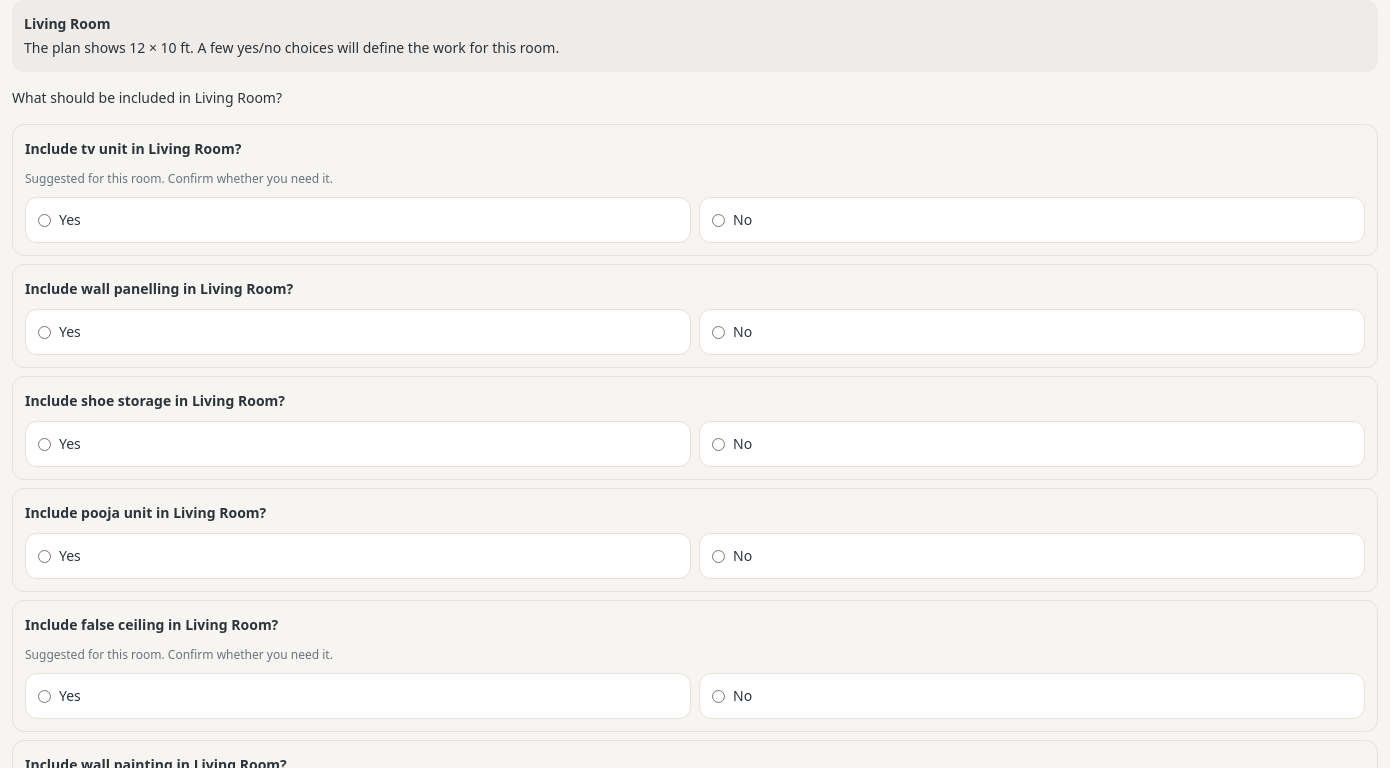
Test: requires an explicit TV cabinet answer and only includes confirmed living-room features
The width and height of the screenshot is (1390, 768).
Check: the radio button labelled "Yes" below "Include tv unit in Living Room?" is not checked, box x1=38 y1=214 x2=51 y2=226
Click the 1st radio button labelled "No" at (718, 220), box x1=712 y1=214 x2=725 y2=226
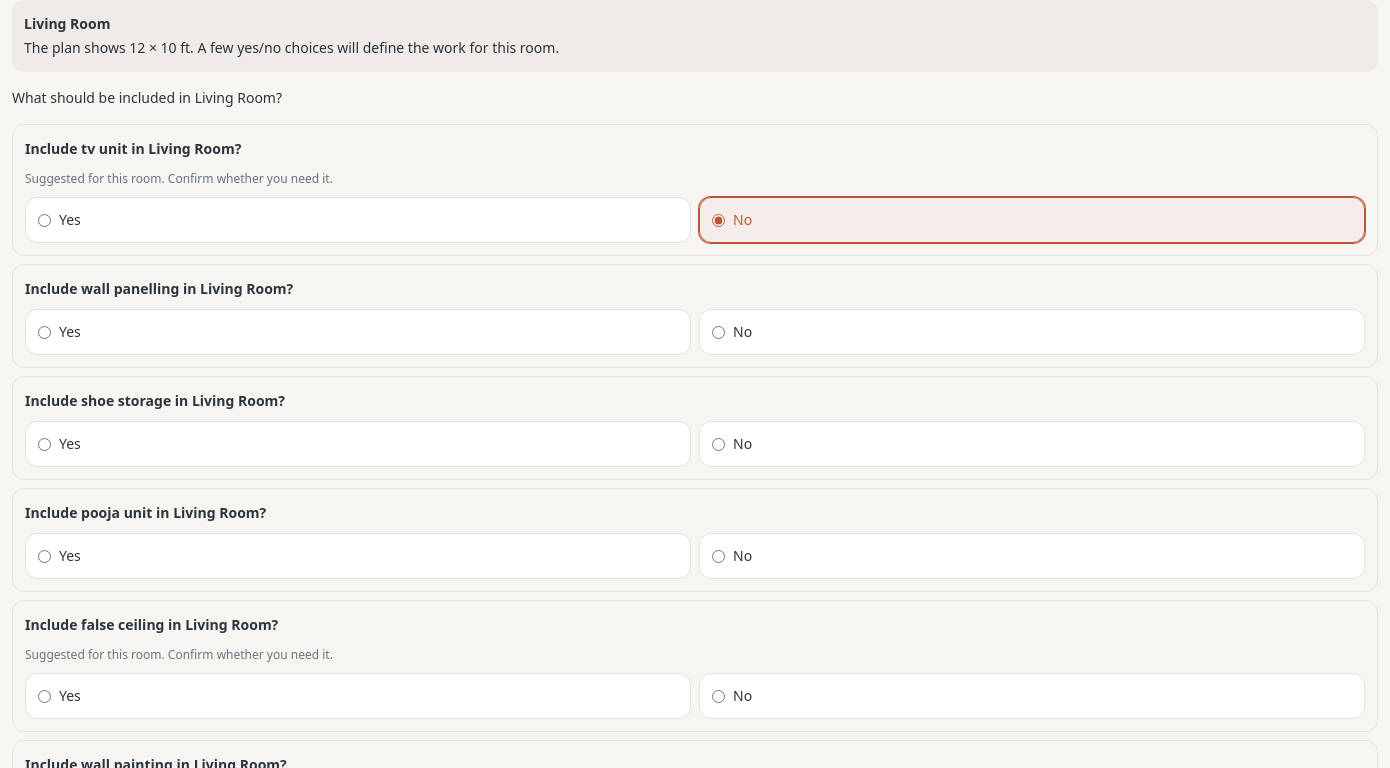
Click the radio button labelled "Yes" below "Include tv unit in Living Room?" at (44, 220), box x1=38 y1=214 x2=51 y2=226
(page scrolled)
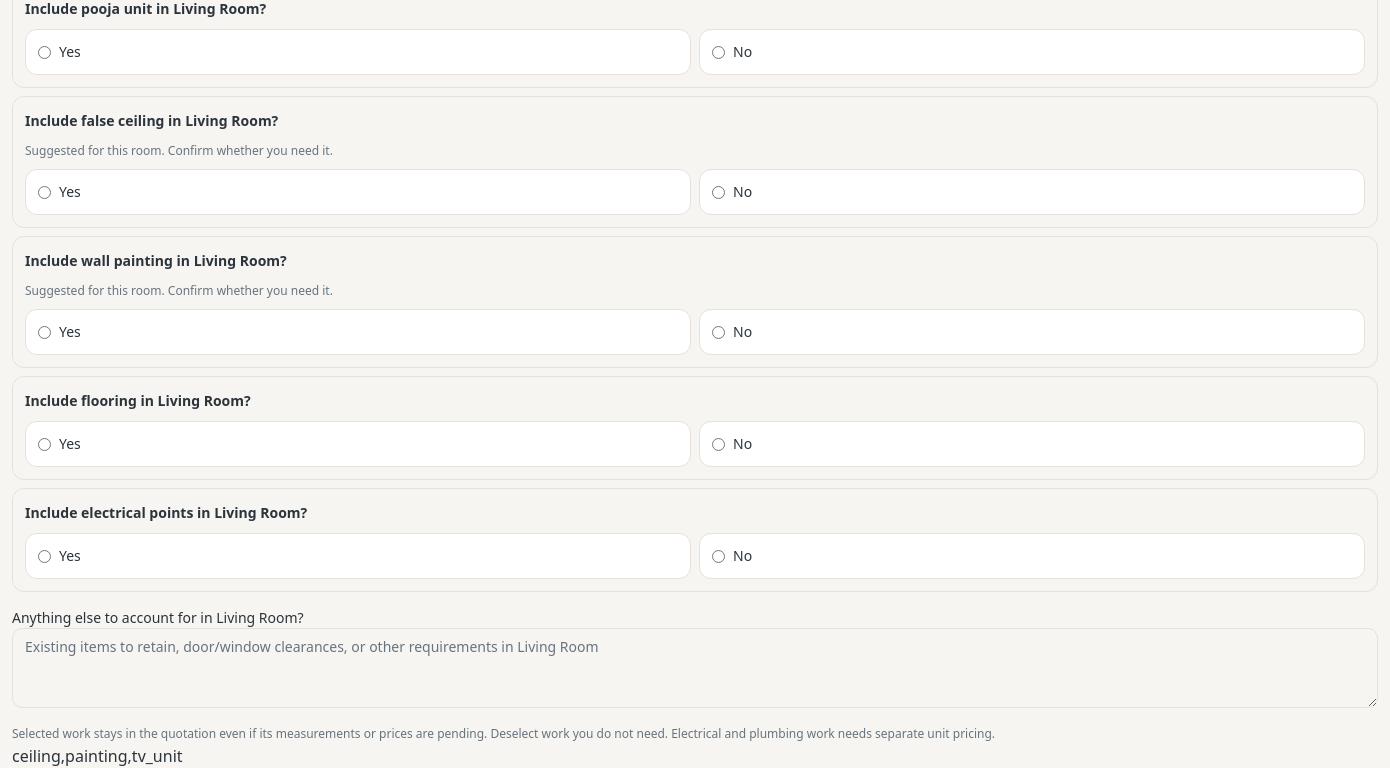
Check: the text "ceiling,painting,tv_unit" is shown, box x1=12 y1=745 x2=182 y2=767
